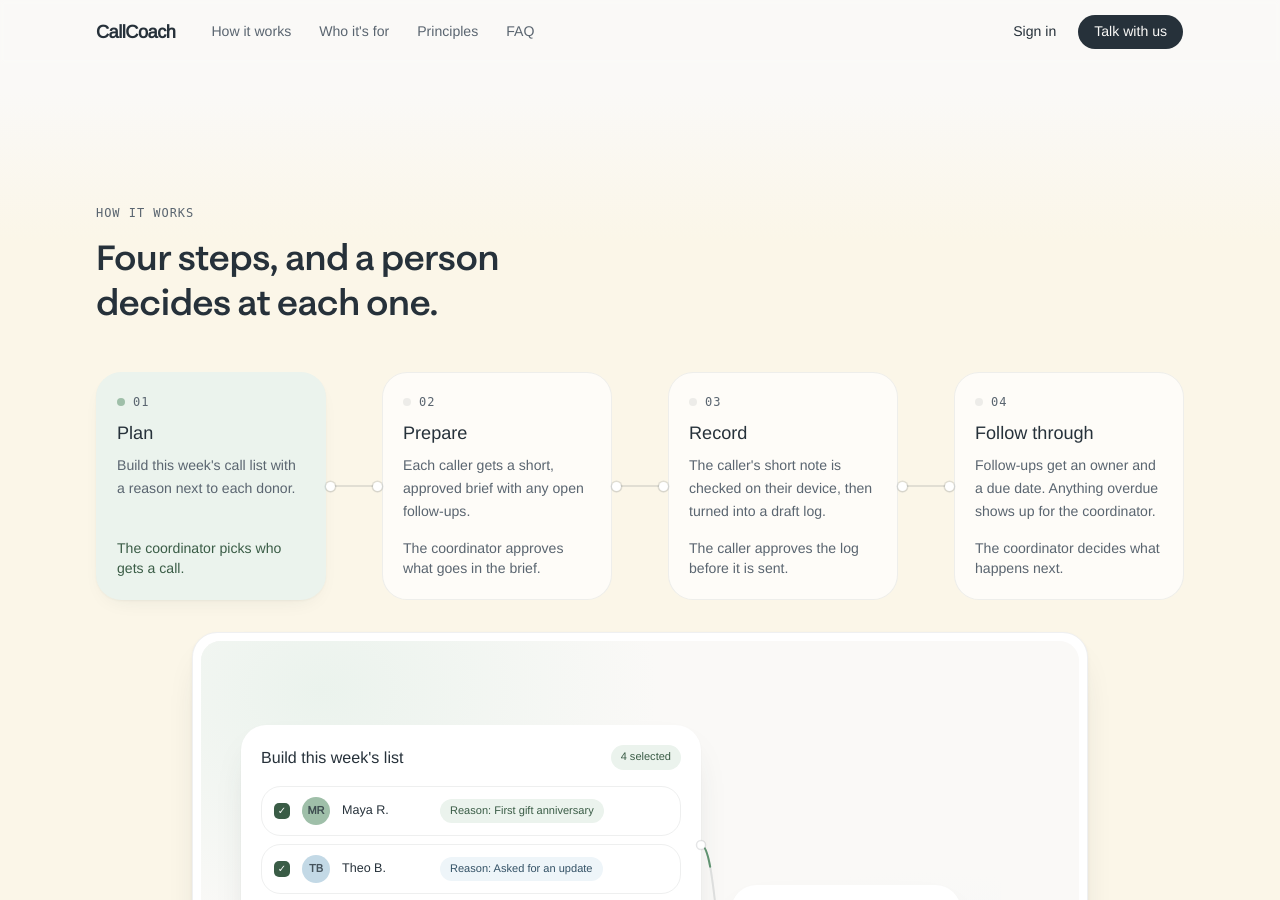
Test: landing page sections › selects a how-it-works step and shows its recording slot
(page scrolled)
Click the tab that starts with "Record". click: click(783, 486)
box: [668,372,898,600]
(page scrolled)
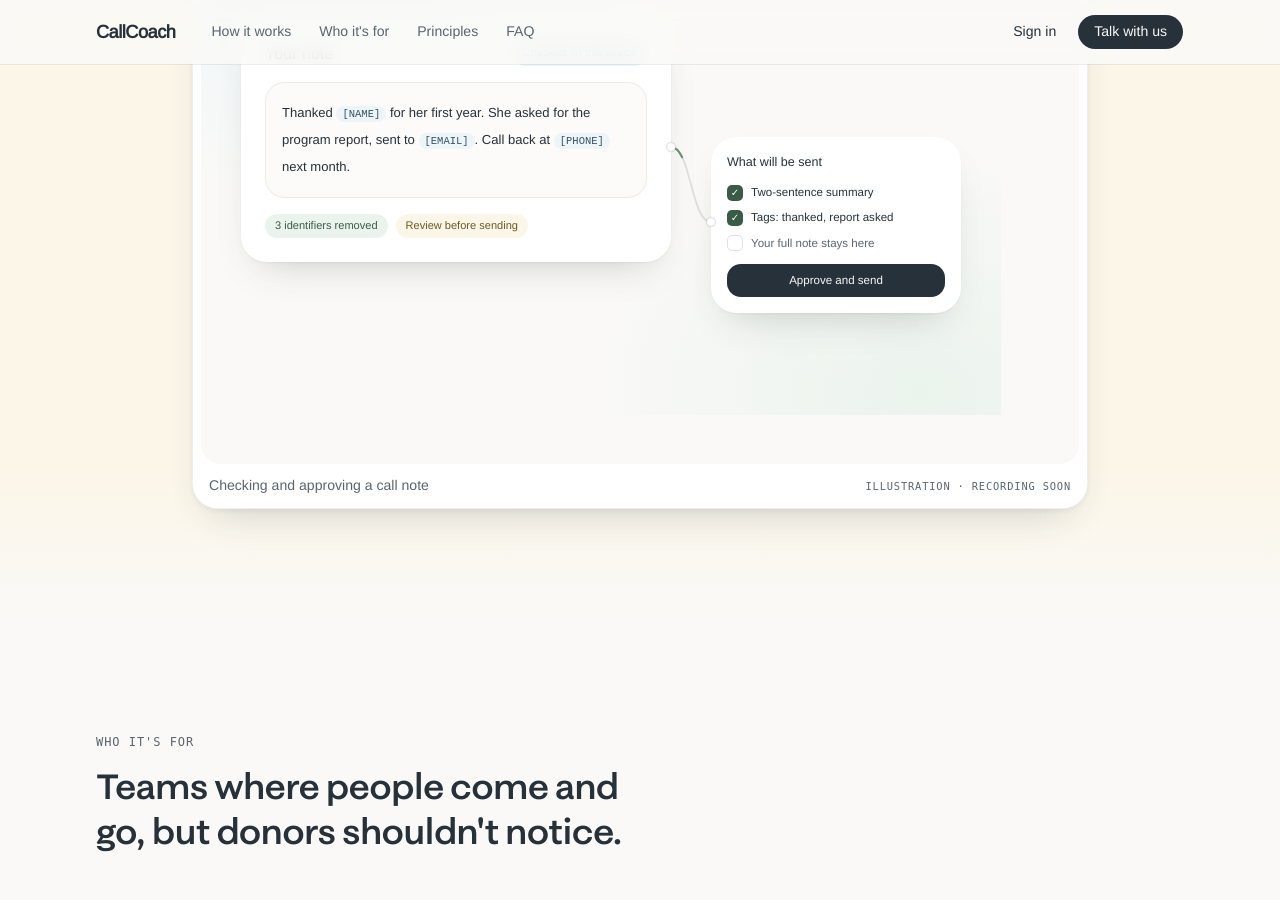
Result: the text "Checking and approving a call note" is shown at [209,476,429,496]
